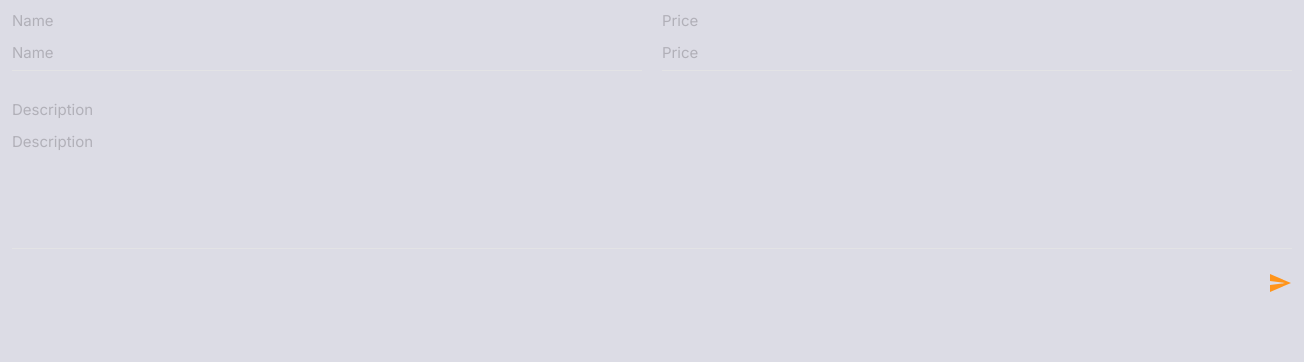
Test case: ItemForm › shows validation error when name is empty
Click the button named "Save". click: (1280, 283)
box: [1268, 271, 1292, 295]
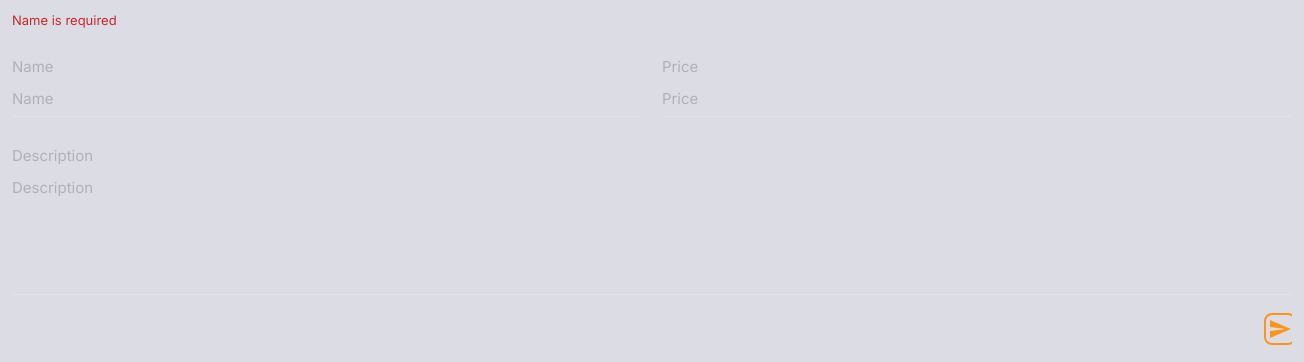
Now the text "Name is required" is shown, box [12, 12, 117, 28]
